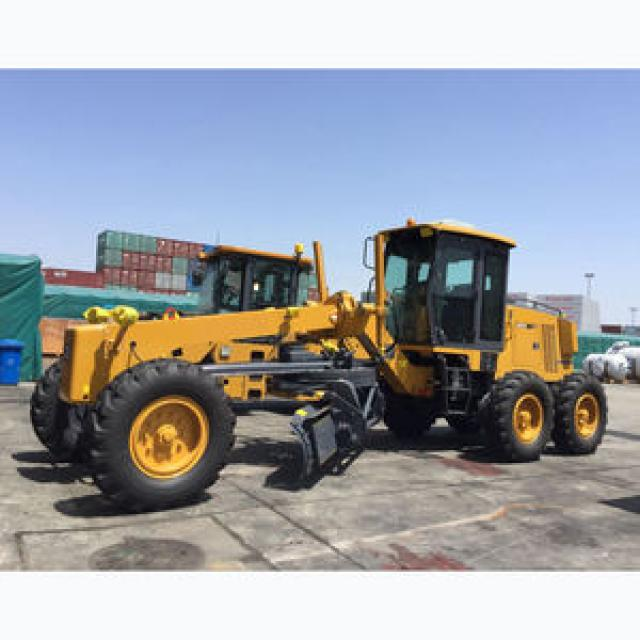buldozerpayloadergrader: (37, 218, 610, 501)
